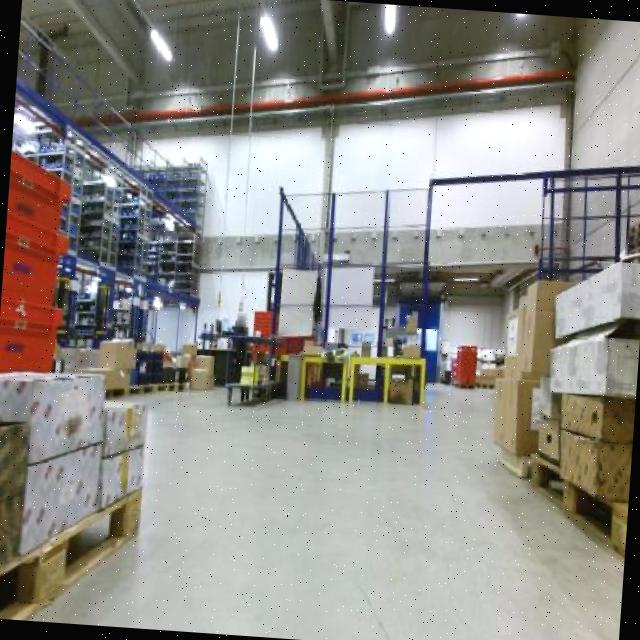pallet: (522, 448, 628, 570), (152, 378, 183, 400)
